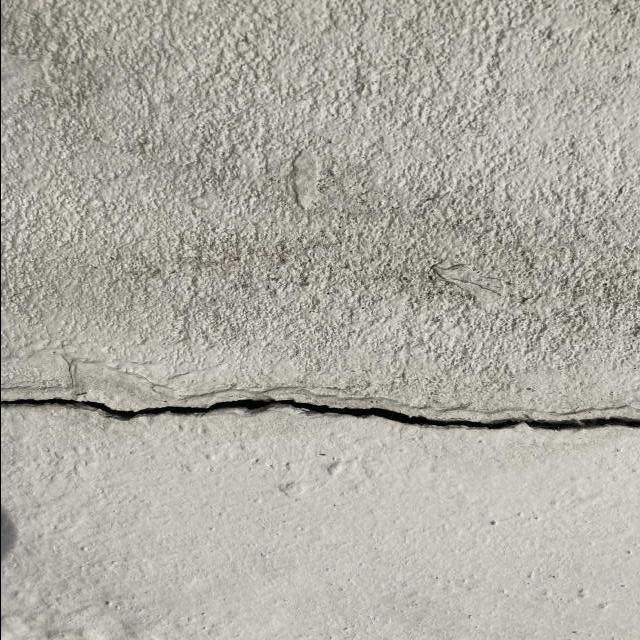SurfaceCrack: (0, 325, 639, 477)
